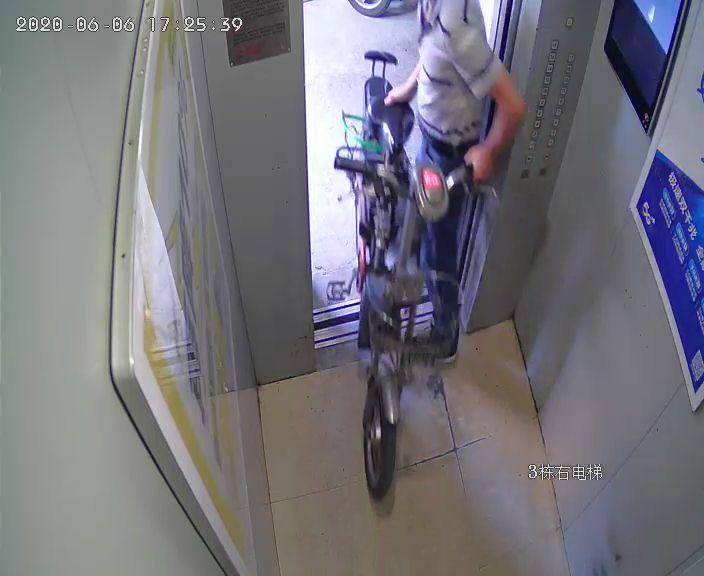Electric-bicycle: (328, 49, 484, 503)
